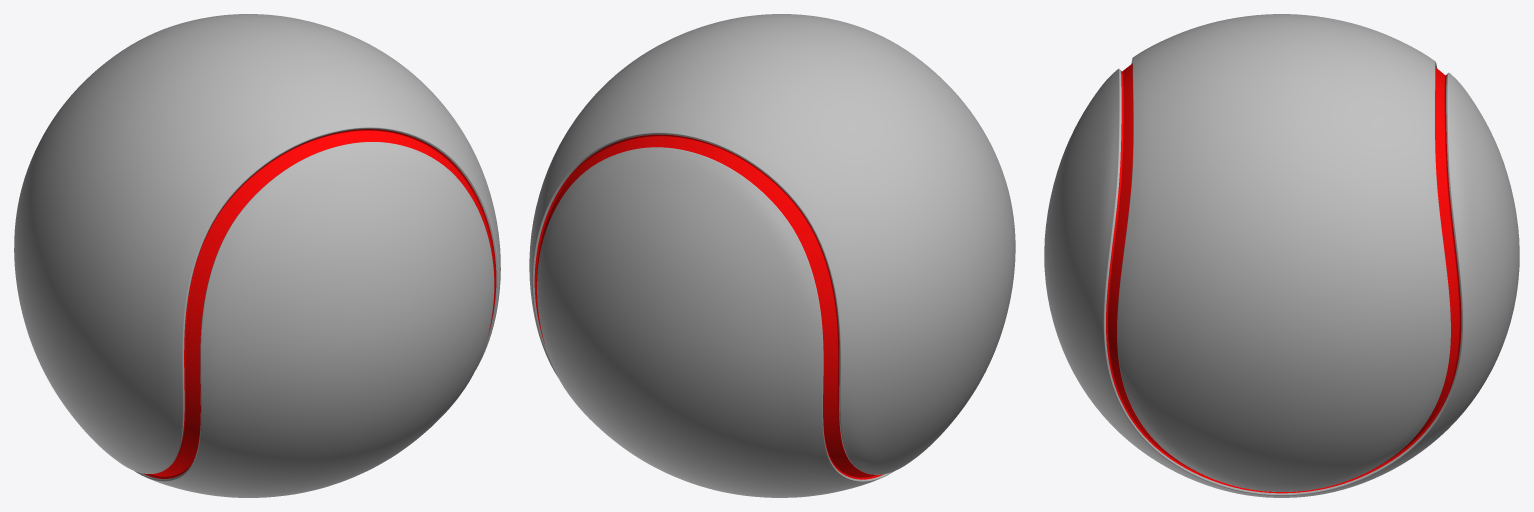
The model's file is tenis_ball.glb.
3 views of the same model, side by side, from view 1: azimuth 30°, elevation 25°; view 2: azimuth 150°, elevation 25°; view 3: azimuth 270°, elevation 25° (orthographic).
Visible parts, largest first — view 1: pCube1; view 2: pCube1; view 3: pCube1.
Boxes of the visible parts, x1,y1,x2,y2 form: pCube1: [14, 14, 500, 497]; pCube1: [529, 14, 1015, 497]; pCube1: [1044, 14, 1519, 497].
Size of the model in its own units: 2.09 by 2.11 by 2.09.
